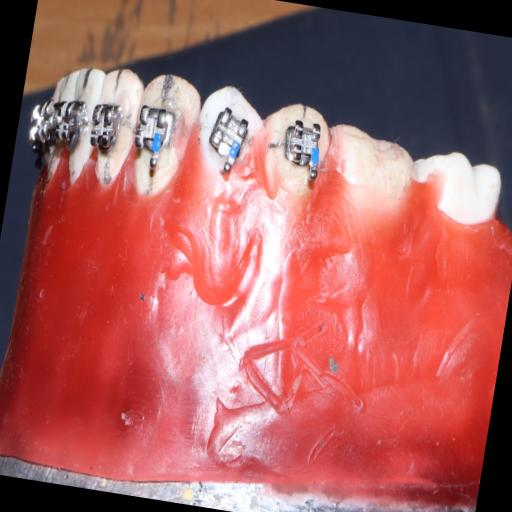correct_brace: (187, 82, 270, 198)
incorrect_brace: (207, 108, 254, 159)
